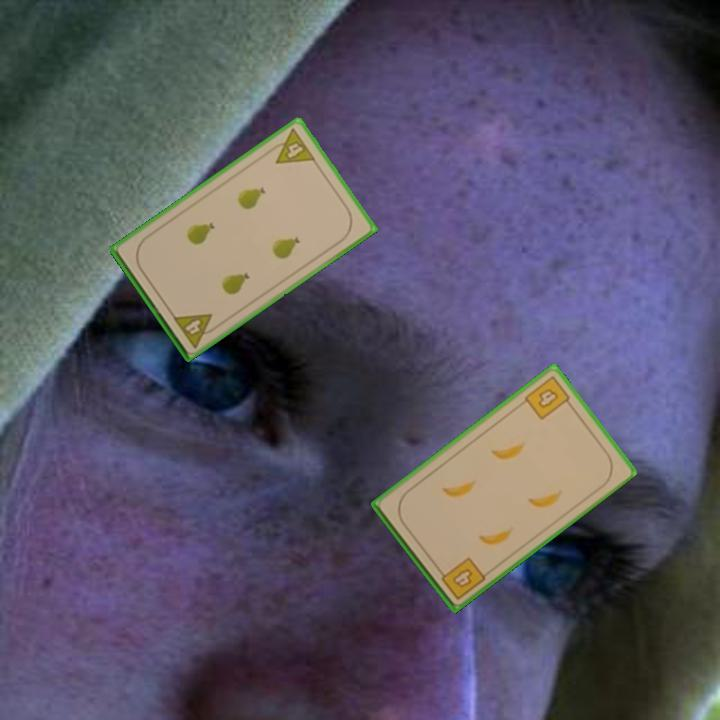4b: (521, 372, 575, 423), (434, 553, 488, 602)
4p: (264, 124, 318, 167), (169, 309, 221, 351)
